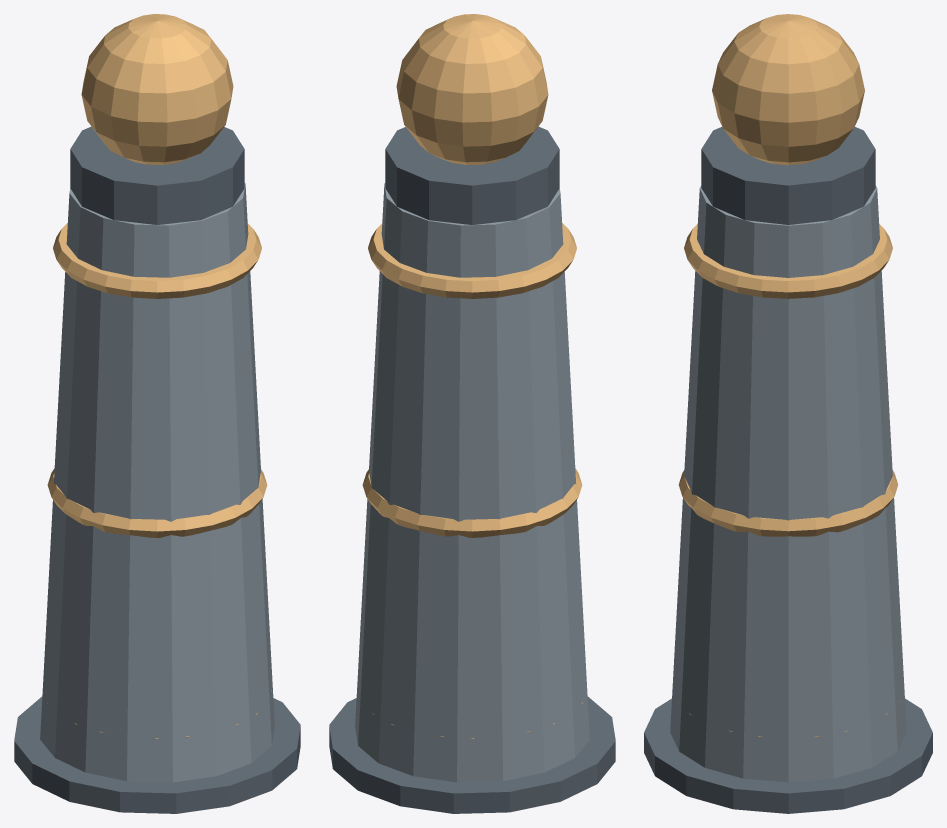
The model's file is brazo_base.glb.
The picture shows the model from 3 angles, left to right: view 1: azimuth 30°, elevation 25°; view 2: azimuth 150°, elevation 25°; view 3: azimuth 270°, elevation 25°; orthographic projection.
Parts seen in each view (by area): view 1: brazo_base; view 2: brazo_base; view 3: brazo_base.
Boxes of the visible parts, <box> form: brazo_base: <box>14,14,300,813</box>; brazo_base: <box>329,14,615,813</box>; brazo_base: <box>644,14,932,813</box>.
Size of the model in its own units: 1.66 by 4.64 by 1.66.
